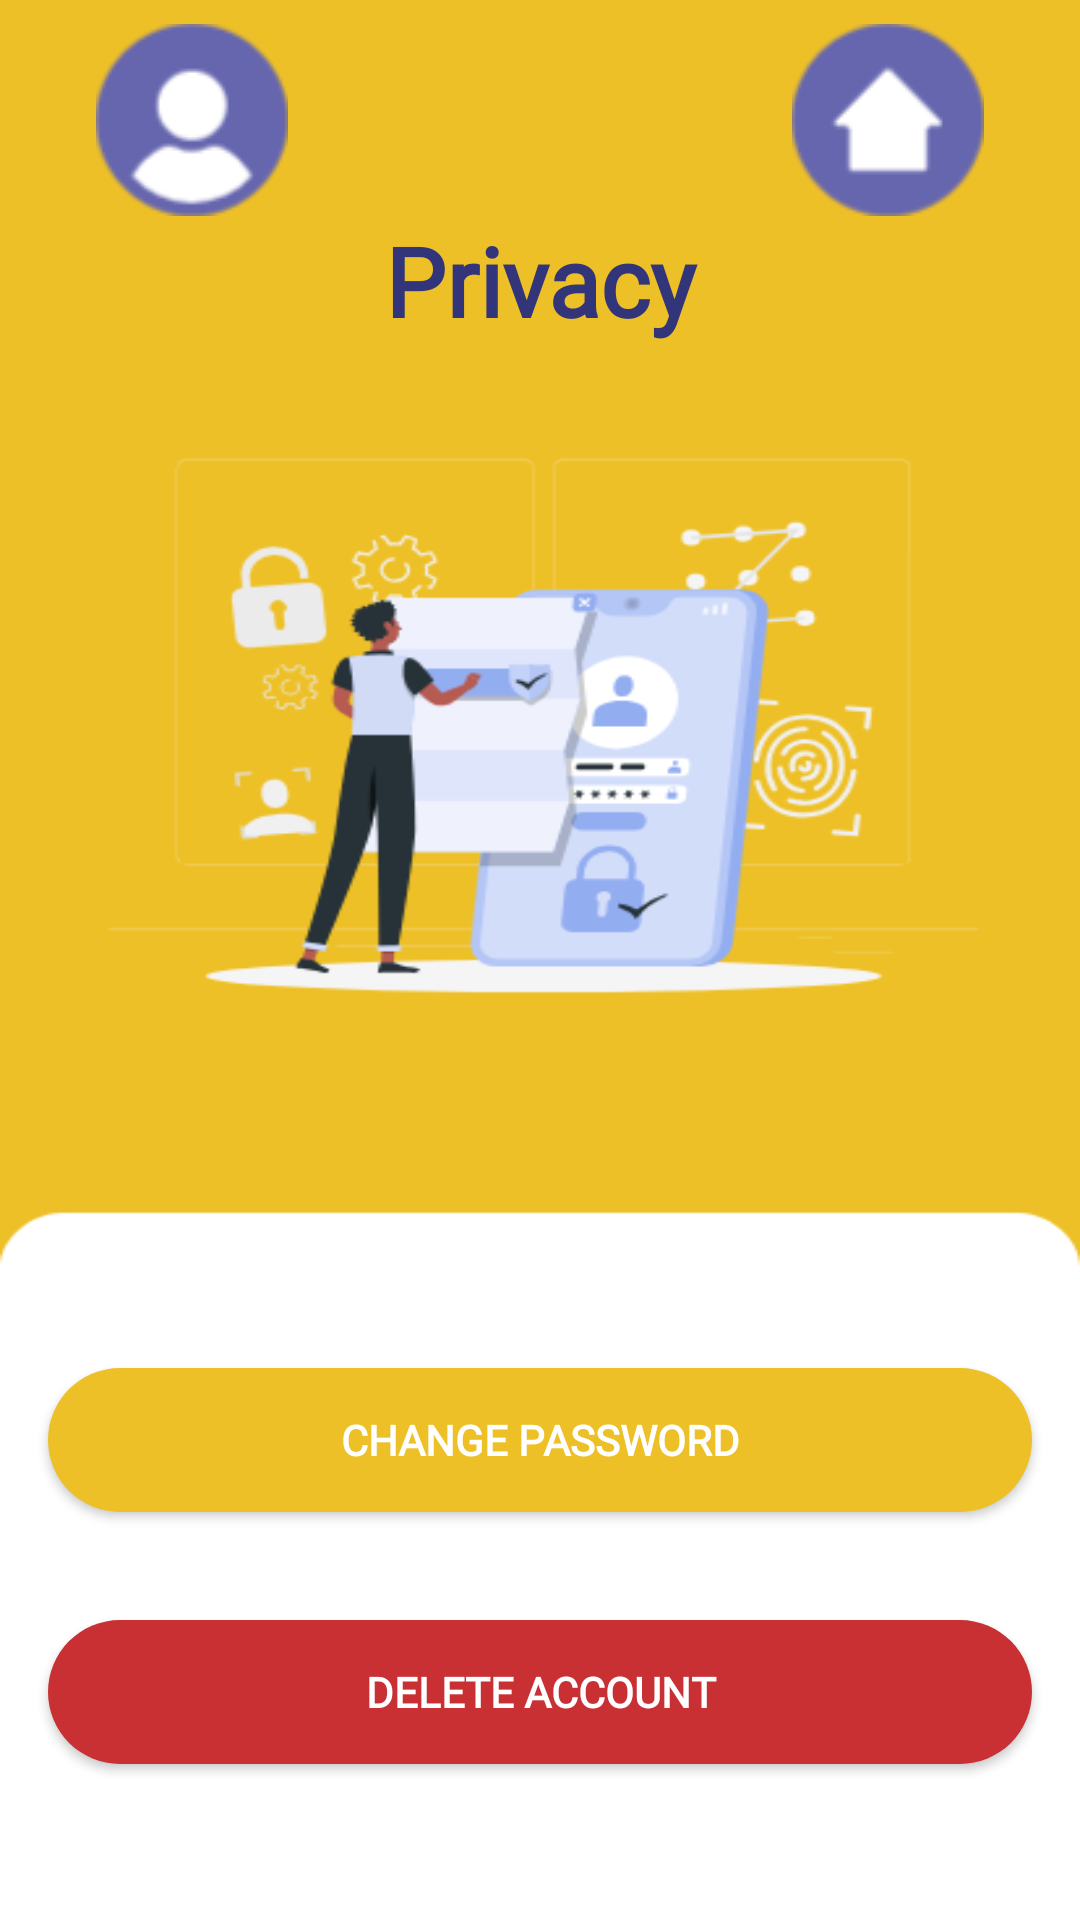

Icons on this 1080 × 1920 Android screen, each with the point to tap as (x=x, y=y):
homenew: (x=888, y=120)
profilenew: (x=192, y=120)
